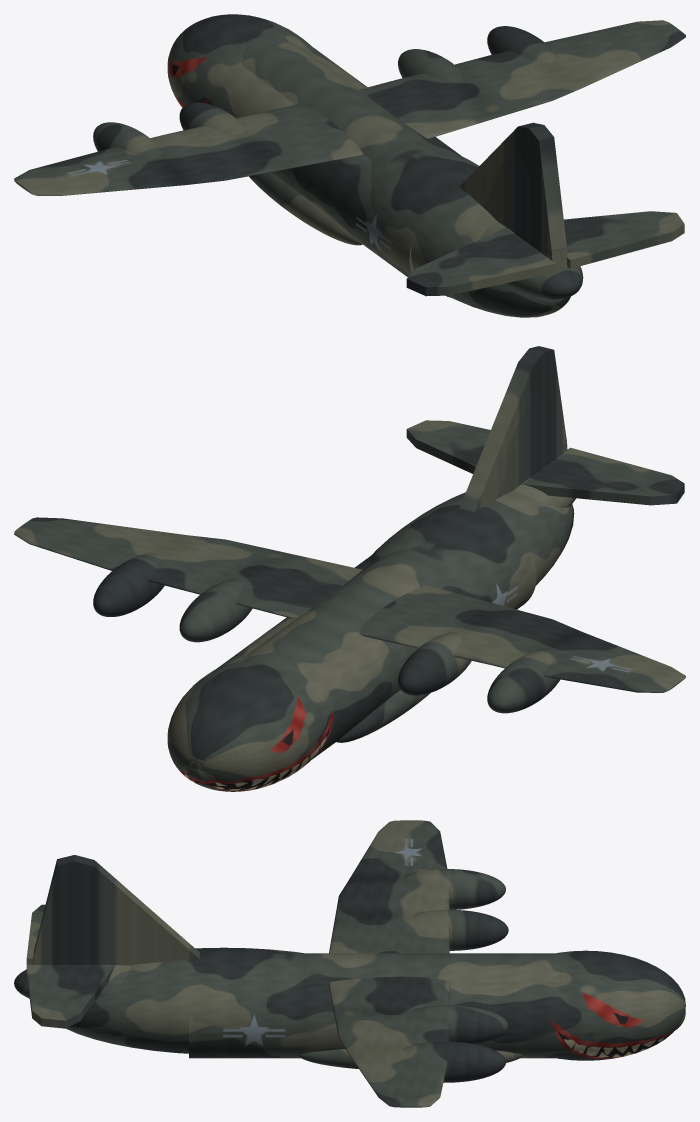
The model's file is c130-painted-skin.glb.
3 views of the same model, one above another, from view 1: azimuth 30°, elevation 25°; view 2: azimuth 150°, elevation 25°; view 3: azimuth 270°, elevation 25° (orthographic). The views are drawn at different scales.
Parts seen in each view (by area): view 1: C130_WingAndTail, C130_Fuselage, C130_Nacelles; view 2: C130_Fuselage, C130_WingAndTail, C130_Nacelles; view 3: C130_Fuselage, C130_WingAndTail, C130_Nacelles.
Part boxes in pixels (x1,y1,x2,y2): C130_WingAndTail: (14, 20, 685, 296); C130_Fuselage: (167, 14, 583, 317); C130_Nacelles: (93, 26, 554, 158); C130_Fuselage: (167, 478, 575, 791); C130_WingAndTail: (14, 346, 685, 692); C130_Nacelles: (93, 553, 560, 713); C130_Fuselage: (14, 947, 685, 1068); C130_WingAndTail: (26, 820, 449, 1107); C130_Nacelles: (403, 869, 508, 1082).
Size of the model in its own units: 58 by 18.46 by 57.6.
1 material, 1 textured.
